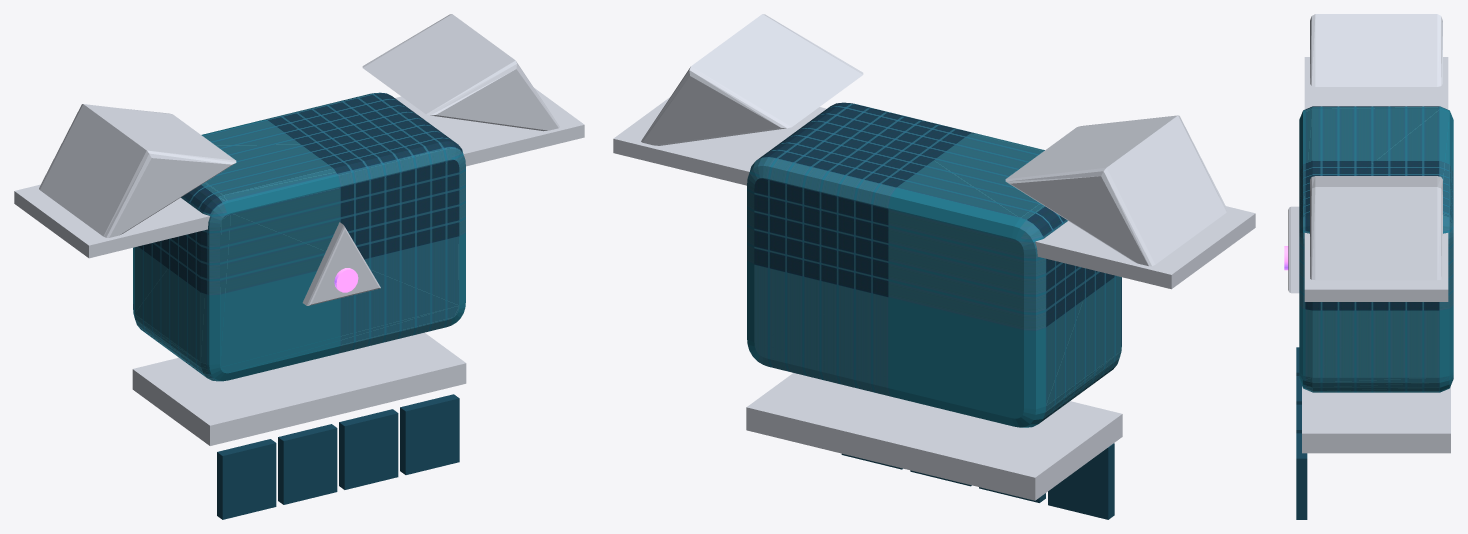
The model's file is eqf_eqsu2.glb.
3 views of the same model, side by side, from view 1: azimuth 30°, elevation 25°; view 2: azimuth 150°, elevation 25°; view 3: azimuth 270°, elevation 25° (orthographic). The views are drawn at different scales.
Bounding box in the file's own units: 4.06 × 2.96 × 1.25.
4 materials, 1 textured.
